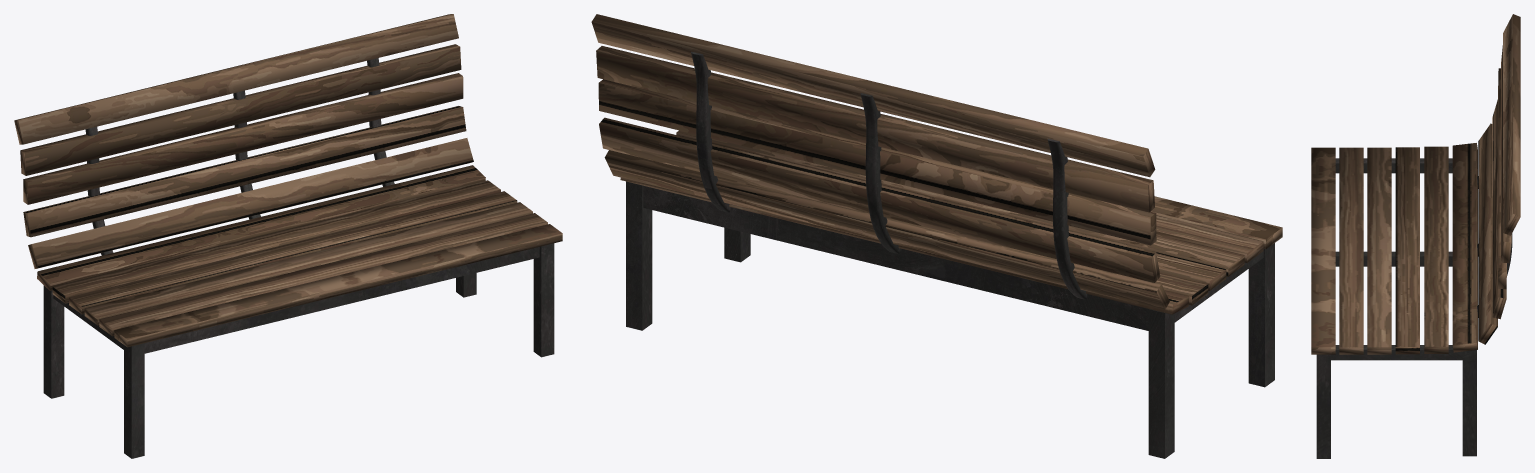
Rendered from Weathered Park Wooden Bench.glb.
3 views of the same model, side by side, from view 1: azimuth 30°, elevation 25°; view 2: azimuth 150°, elevation 25°; view 3: azimuth 270°, elevation 25° (orthographic). The views are drawn at different scales.
Visible parts, largest first — view 1: SM_Bench, SM_MetalBars; view 2: SM_Bench, SM_MetalBars; view 3: SM_Bench, SM_MetalBars.
Boxes of the visible parts, x1,y1,x2,y2 form: SM_Bench: (14, 14, 562, 347); SM_MetalBars: (43, 58, 554, 458); SM_Bench: (591, 14, 1282, 314); SM_MetalBars: (626, 51, 1274, 458); SM_Bench: (1311, 14, 1520, 354); SM_MetalBars: (1316, 158, 1512, 458).
Size of the model in its own units: 7.95 by 4.56 by 3.51.
2 materials, 2 textured.
